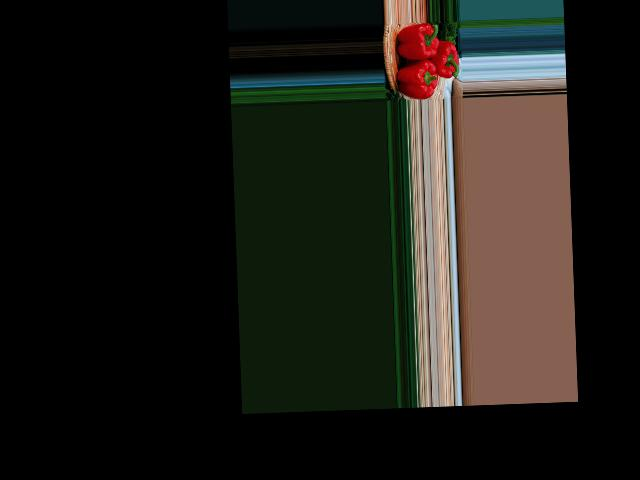bell_pepper: (391, 23, 440, 66)
